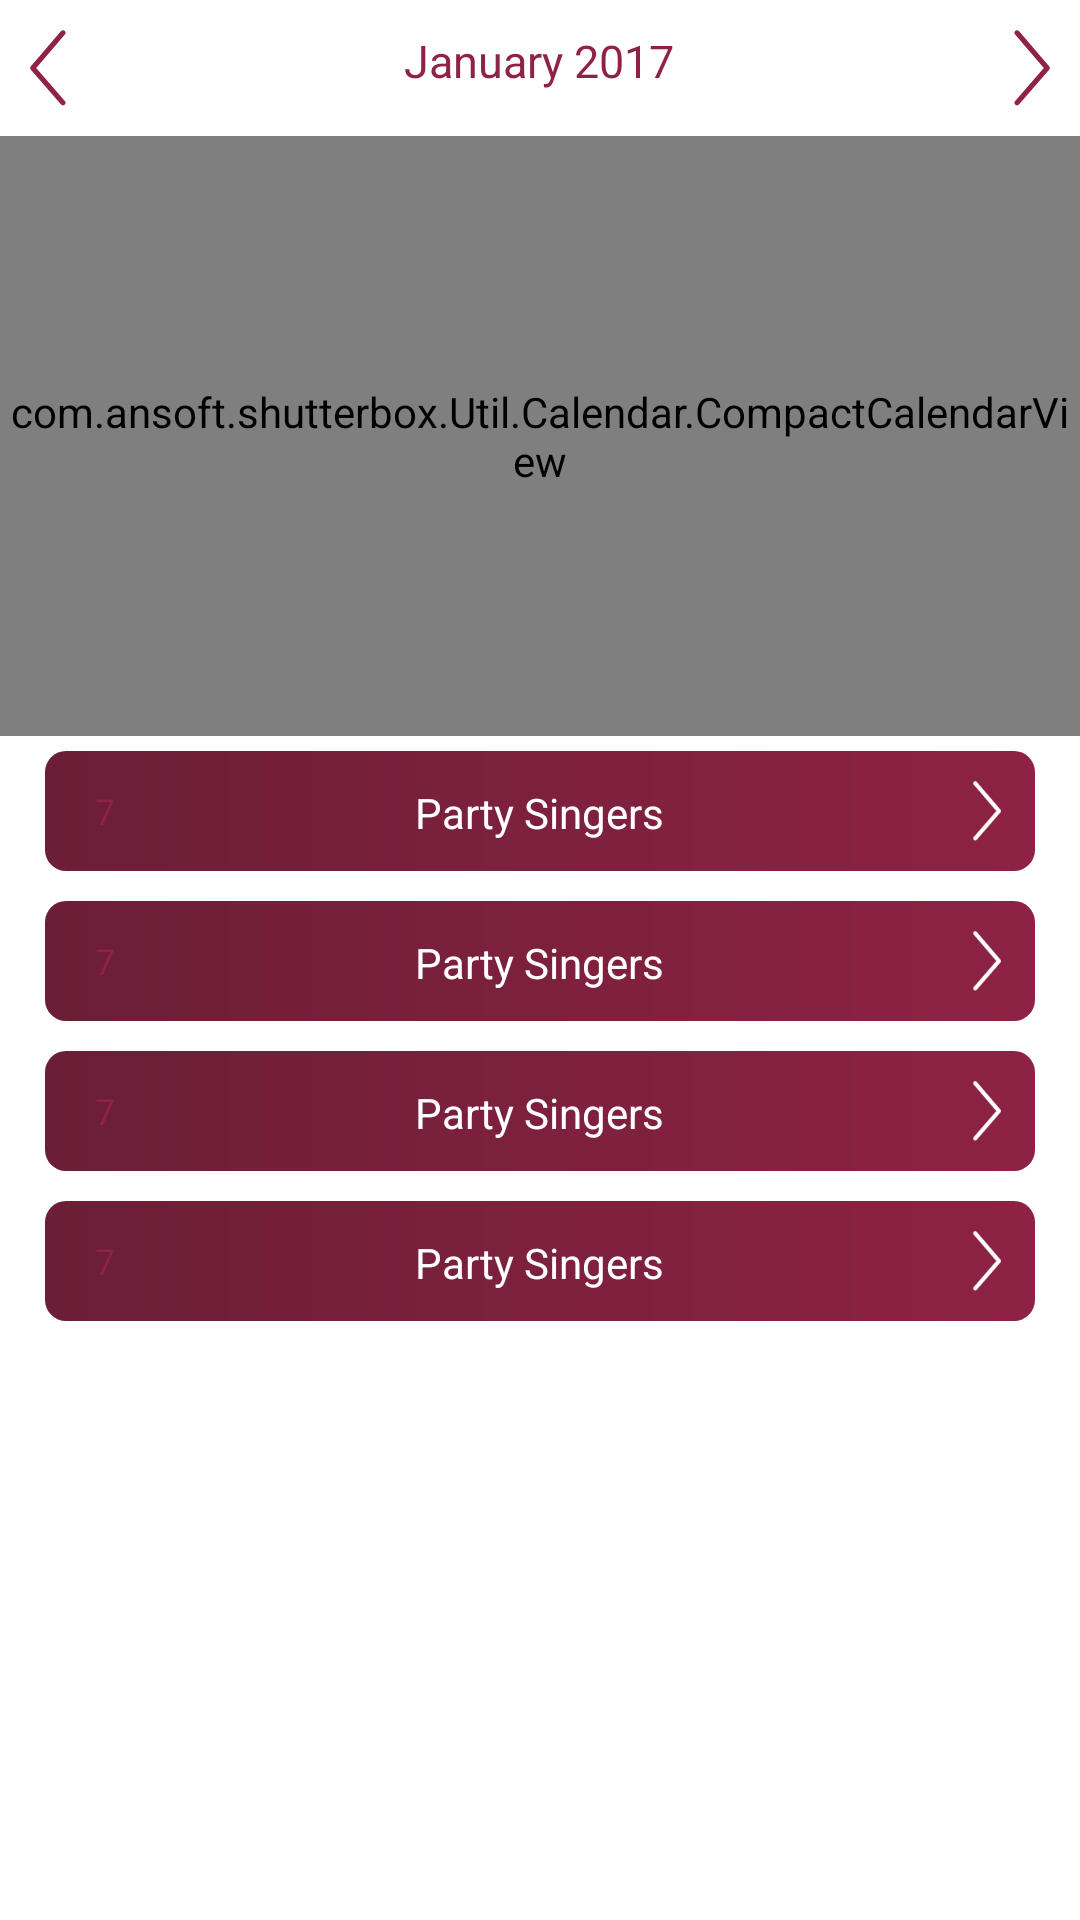

Icons on this 1080px x 1920px Android screen, each with its box as (x1, y1, x2, y2):
back: (30, 30, 66, 106)
